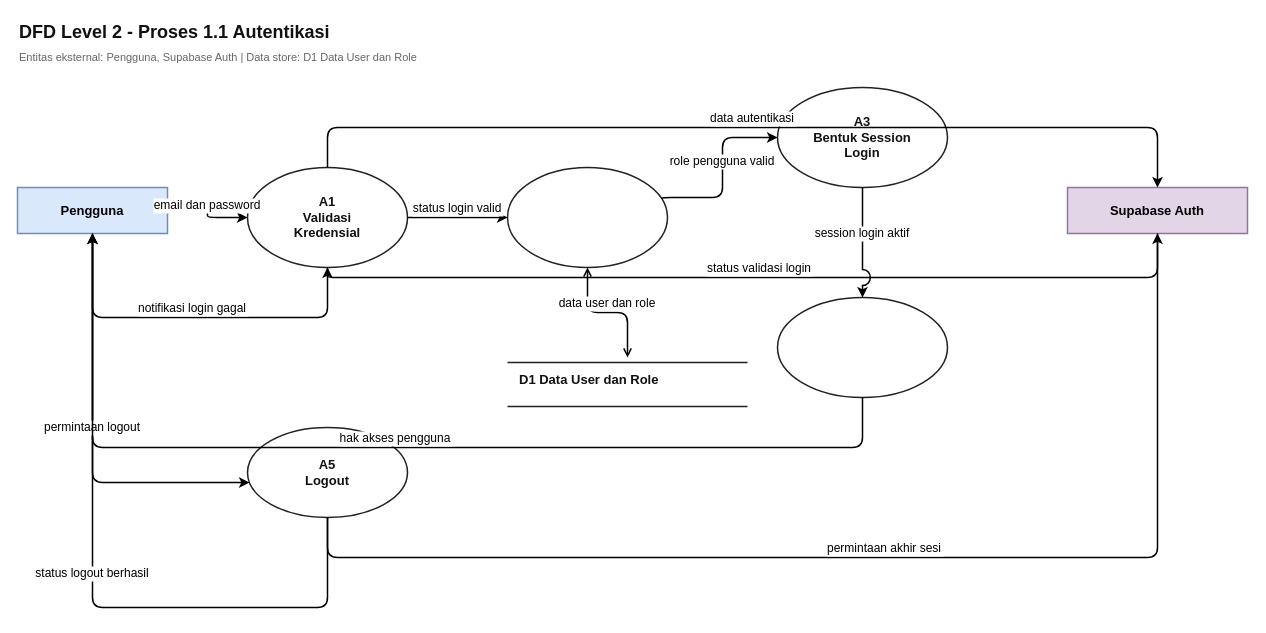
Image size: 1266x633. Some labels were removed from this diagram. Each missing label, with the centre of its shape:
"A2 Ambil Data Role" goes at pixel 587 217.
"A4 Redirect Berdasarkan Role" goes at pixel 862 347.
